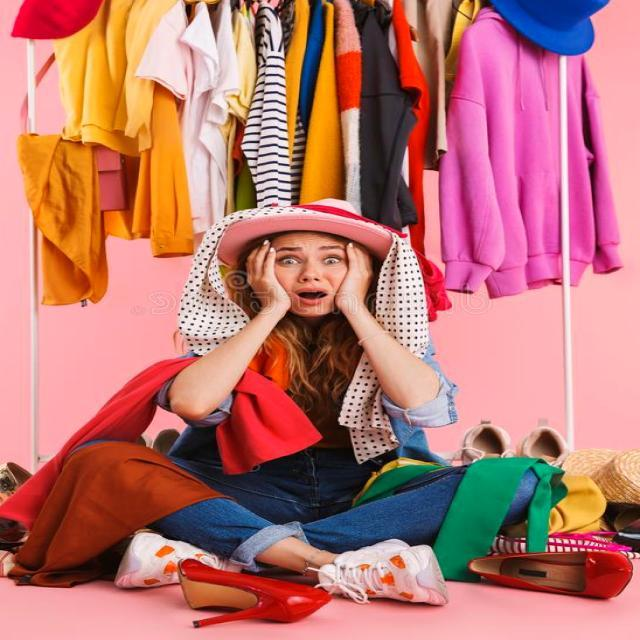clothes: (22, 0, 593, 196)
